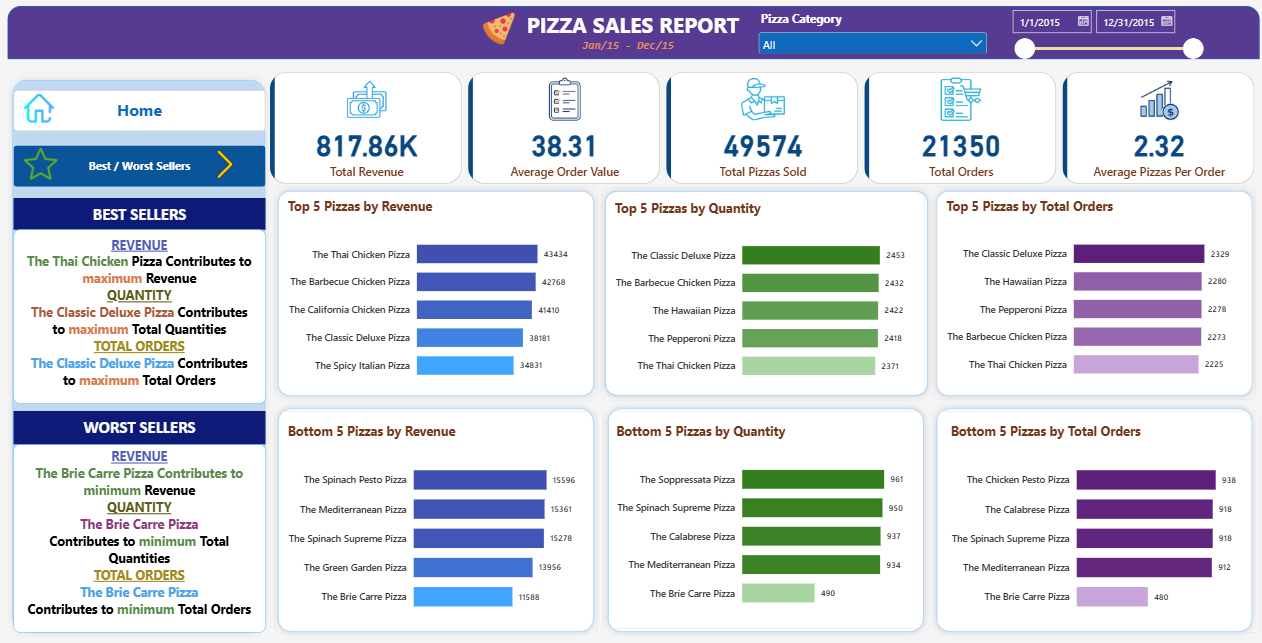

This screenshot's page, from the dashboard's own definition file:
{"tool":"powerbi","page":{"name":"Best / Worst Sellers","canvas":[1600,820],"ordinal":1},"visuals":[{"type":"cardVisual","fields":{"Data":["pizza_sales.Total Revenue","pizza_sales.Average Order Value","pizza_sales.Total Pizzas Sold","pizza_sales.Total Orders","pizza_sales.Average Pizzas Per Order"]},"box":[343.6,90.9,1243.6,141.8],"z":0},{"type":"shape","box":[12.7,7.3,1580,67.3],"z":1000},{"type":"textbox","box":[645.5,12.7,314,44],"z":2000},{"type":"textbox","box":[694.5,41.8,203.6,32.7],"z":3000},{"type":"image","box":[570.9,14.5,123.6,41.8],"z":4000},{"type":"shape","box":[11.4,92.7,335,713.6],"z":5000},{"type":"shape","box":[345.5,232.7,415,275],"z":6000},{"type":"textbox","box":[20,250,318,40],"z":16000},{"type":"textbox","box":[20,290,318,220],"z":17000},{"type":"textbox","box":[20,560,318,238],"z":18000},{"type":"textbox","box":[20,518,318,42],"z":19000},{"type":"slicer","fields":{"Values":["pizza_sales.pizza_category"]},"box":[956,14,298,54],"z":20000},{"type":"slicer","fields":{"Values":["pizza_sales.order_date"]},"box":[1274,8,252,76],"z":21000},{"type":"shape","box":[1178.2,232.7,415,275],"z":21001},{"type":"shape","box":[758.2,232.7,423.6,274.5],"z":21002},{"type":"shape","box":[1178.2,507.3,414.5,298.2],"z":21003},{"type":"shape","box":[763.6,507.3,414.5,298.2],"z":21004},{"type":"shape","box":[345.5,507.3,414.5,298.2],"z":21005},{"type":"barChart","title":"Top 5 Pizzas by Revenue","fields":{"Category":["pizza_sales.pizza_name"],"Y":["pizza_sales.Total Revenue"]},"box":[350.9,234.5,407.3,270.9],"z":21006},{"type":"barChart","title":"Bottom 5 Pizzas by Revenue","fields":{"Category":["pizza_sales.pizza_name"],"Y":["pizza_sales.Total Revenue"]},"box":[350,518,408,280],"z":21007},{"type":"barChart","title":"Top 5 Pizzas by Quantity","fields":{"Category":["pizza_sales.pizza_name"],"Y":["pizza_sales.Total Pizzas Sold"]},"box":[763.6,236.4,407.3,269.1],"z":21008},{"type":"barChart","title":"Bottom 5 Pizzas by Quantity","fields":{"Category":["pizza_sales.pizza_name"],"Y":["pizza_sales.Total Pizzas Sold"]},"box":[765.5,518.2,407.3,274.5],"z":21009},{"type":"barChart","title":"Top 5 Pizzas by Total Orders","fields":{"Category":["pizza_sales.pizza_name"],"Y":["pizza_sales.Total Orders"]},"box":[1181.8,234.5,407.3,269.1],"z":21010},{"type":"barChart","title":"Bottom 5 Pizzas by Total Orders","fields":{"Category":["pizza_sales.pizza_name"],"Y":["pizza_sales.Total Orders"]},"box":[1186,518,408,280],"z":21011},{"type":"pageNavigator","title":"sdfdsf","box":[20,114,318,52],"z":21012},{"type":"pageNavigator","box":[20,184,318,52],"z":21013},{"type":"image","box":[252,190,72,36],"z":21014},{"type":"image","box":[34,114,38,46],"z":21017},{"type":"image","box":[34,182,42,50],"z":21018}]}

Visuals, with their boxes in screenshot pixels (x1, y1, x2, y2), scaled from the page's 1600x820 canvas onto the 1262x643 screenshot:
cardVisual - pizza_sales.Total Revenue x pizza_sales.Average Order Value: rect(271, 71, 1252, 182)
shape: rect(10, 6, 1256, 58)
textbox: rect(509, 10, 757, 44)
textbox: rect(548, 33, 708, 58)
image: rect(450, 11, 548, 44)
shape: rect(9, 73, 273, 632)
shape: rect(273, 182, 600, 398)
textbox: rect(16, 196, 267, 227)
textbox: rect(16, 227, 267, 400)
textbox: rect(16, 439, 267, 626)
textbox: rect(16, 406, 267, 439)
slicer - pizza_sales.pizza_category: rect(754, 11, 989, 53)
slicer - pizza_sales.order_date: rect(1005, 6, 1204, 66)
shape: rect(929, 182, 1257, 398)
shape: rect(598, 182, 932, 398)
shape: rect(929, 398, 1256, 632)
shape: rect(602, 398, 929, 632)
shape: rect(273, 398, 599, 632)
"Top 5 Pizzas by Revenue" barChart: rect(277, 184, 598, 396)
"Bottom 5 Pizzas by Revenue" barChart: rect(276, 406, 598, 626)
"Top 5 Pizzas by Quantity" barChart: rect(602, 185, 924, 396)
"Bottom 5 Pizzas by Quantity" barChart: rect(604, 406, 925, 622)
"Top 5 Pizzas by Total Orders" barChart: rect(932, 184, 1253, 395)
"Bottom 5 Pizzas by Total Orders" barChart: rect(935, 406, 1257, 626)
"sdfdsf" pageNavigator: rect(16, 89, 267, 130)
pageNavigator: rect(16, 144, 267, 185)
image: rect(199, 149, 256, 177)
image: rect(27, 89, 57, 125)
image: rect(27, 143, 60, 182)
